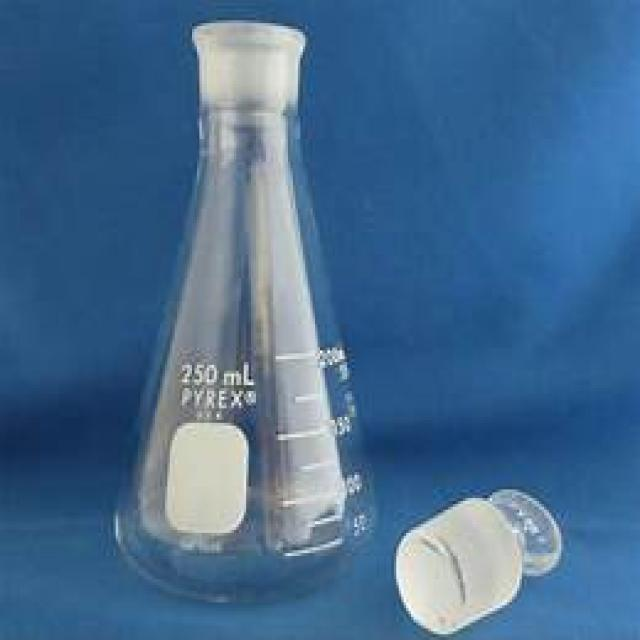Titrarion: (101, 24, 381, 603)
